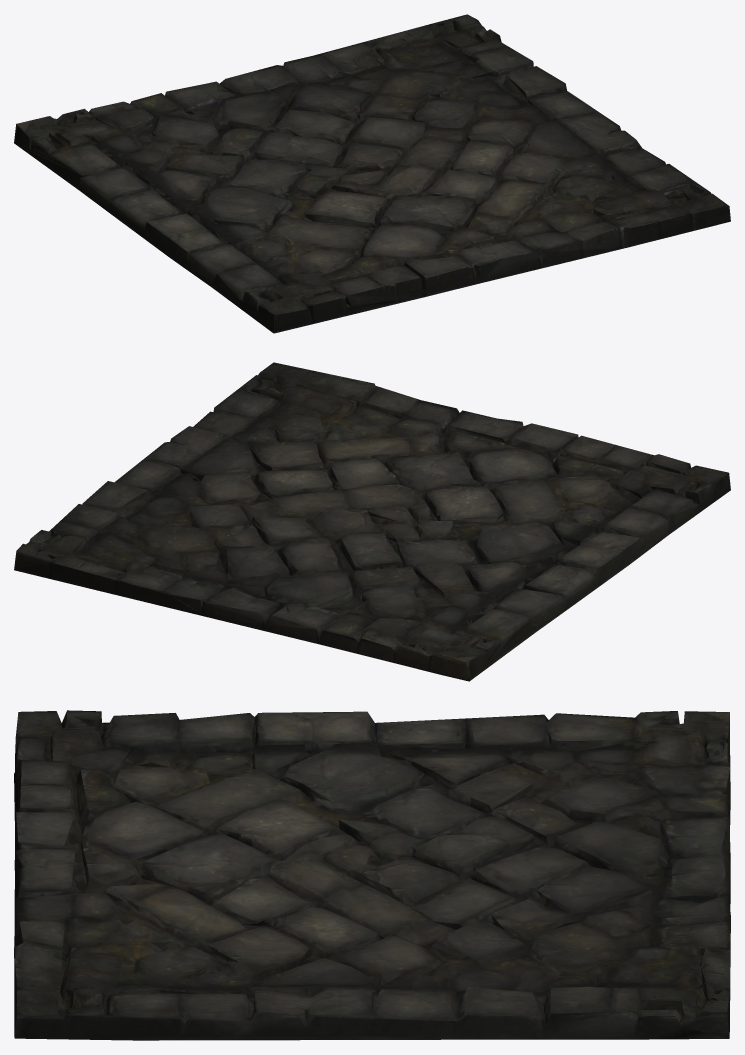
Rendered from blk_floor.glb.
The picture shows the model from 3 angles, top to bottom: view 1: azimuth 30°, elevation 25°; view 2: azimuth 150°, elevation 25°; view 3: azimuth 270°, elevation 25°; orthographic projection. The views are drawn at different scales.
Parts seen in each view (by area): view 1: Mesh_0; view 2: Mesh_0; view 3: Mesh_0.
Part boxes in pixels (x1,y1,x2,y2): Mesh_0: (14, 14, 730, 333); Mesh_0: (14, 362, 730, 681); Mesh_0: (14, 710, 730, 1040).
Size of the model in its own units: 2.02 by 0.0892 by 2.
Materials: 1 (1 with a texture image).
